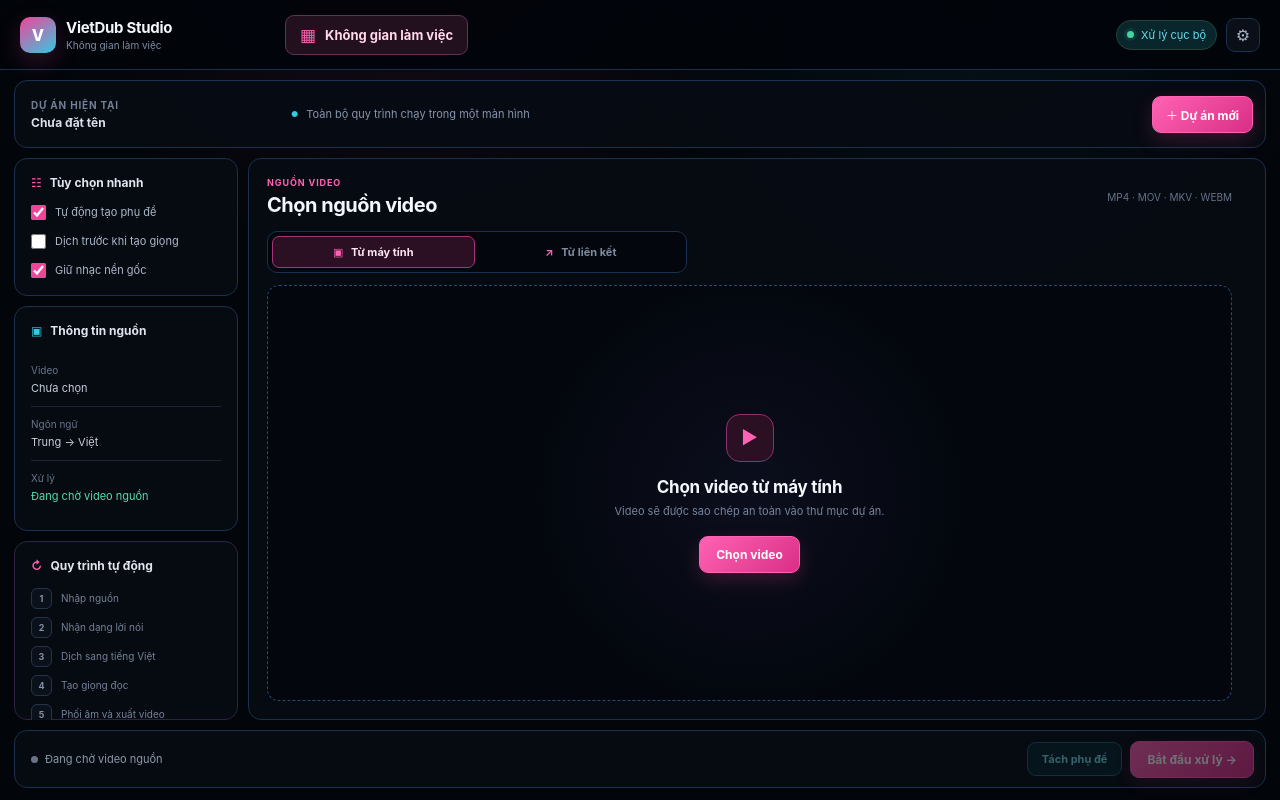
Scenario: App › does not report ready when ffprobe tools are unavailable
Click the button "Chọn video".
click(749, 554)  # box [699,536,800,572]
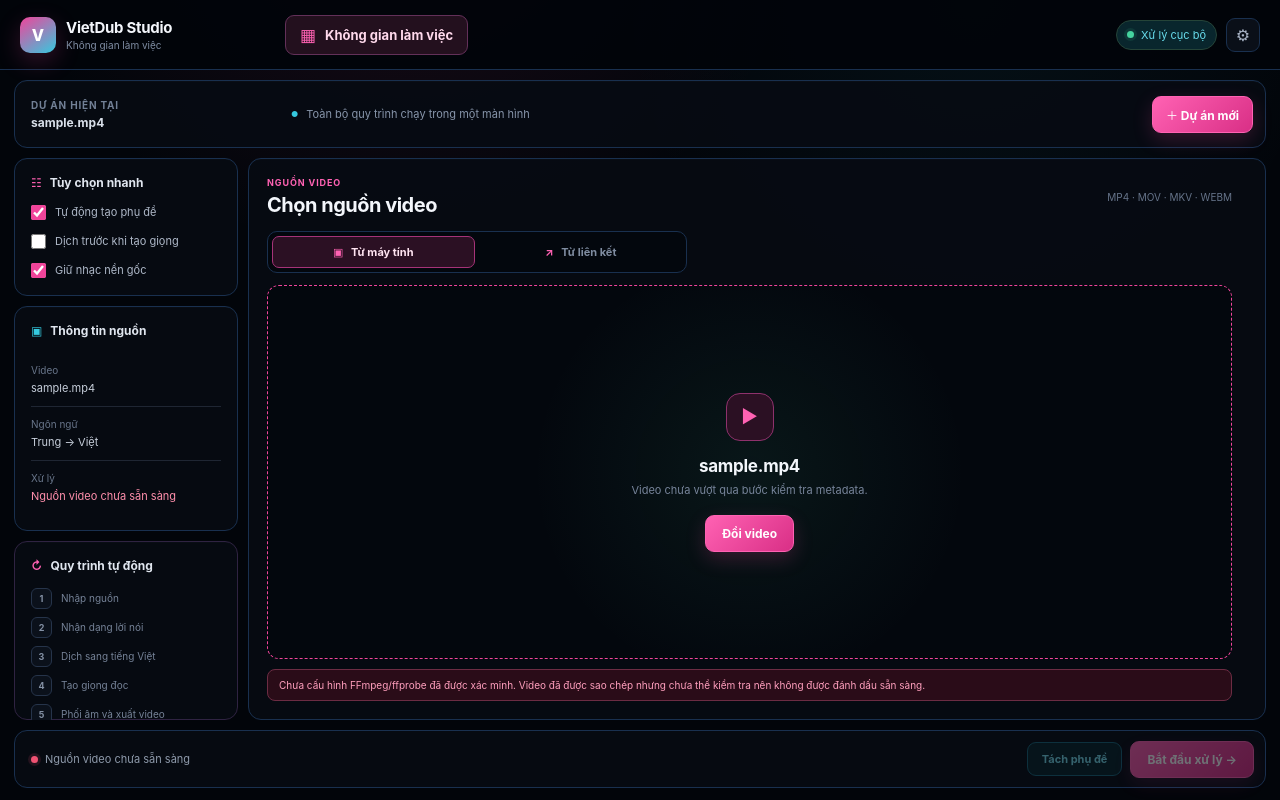
Expected: the button "Bắt đầu xử lý →" is disabled, [1130,740,1254,778]
Now the message shows "Chưa cấu hình FFmpeg/ffprobe", box [279,679,925,691]
